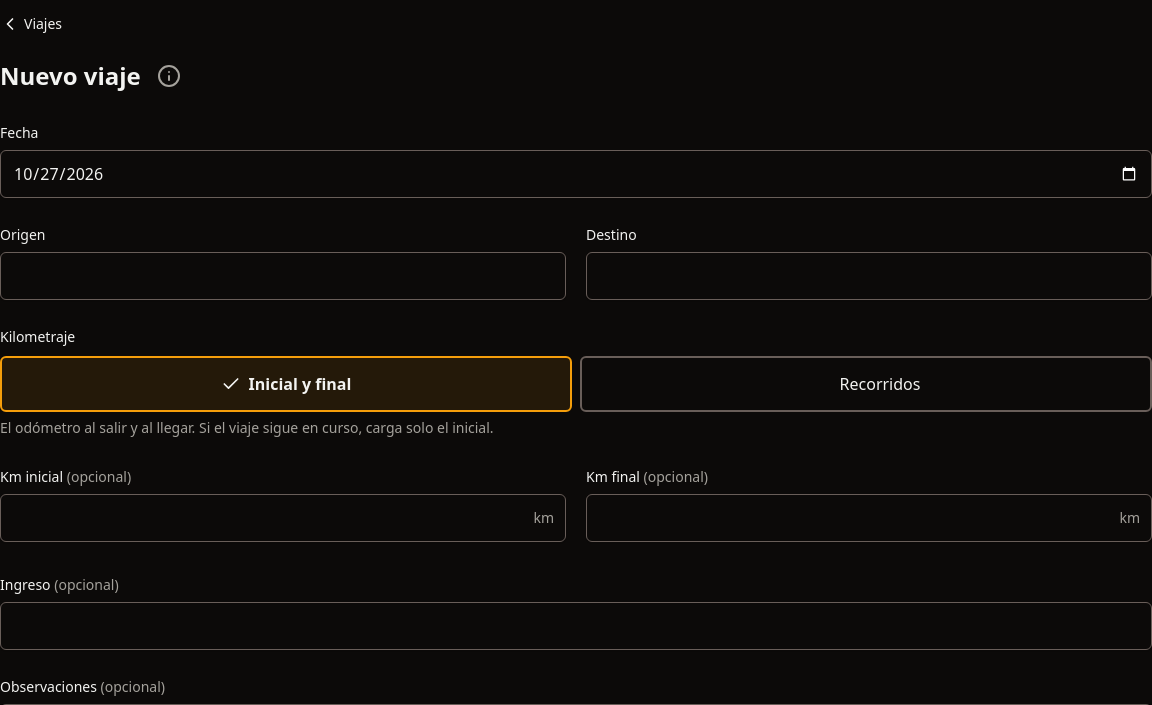
Test: cobertura: toda pantalla de la app (menos Reportar) tiene su "i" › viajes/nuevo: una sola "i", que abre la ayuda de ESA pantalla y devuelve el foco
Click the button named "Ayuda de esta pantalla": x=169, y=76 [145,52,193,100]
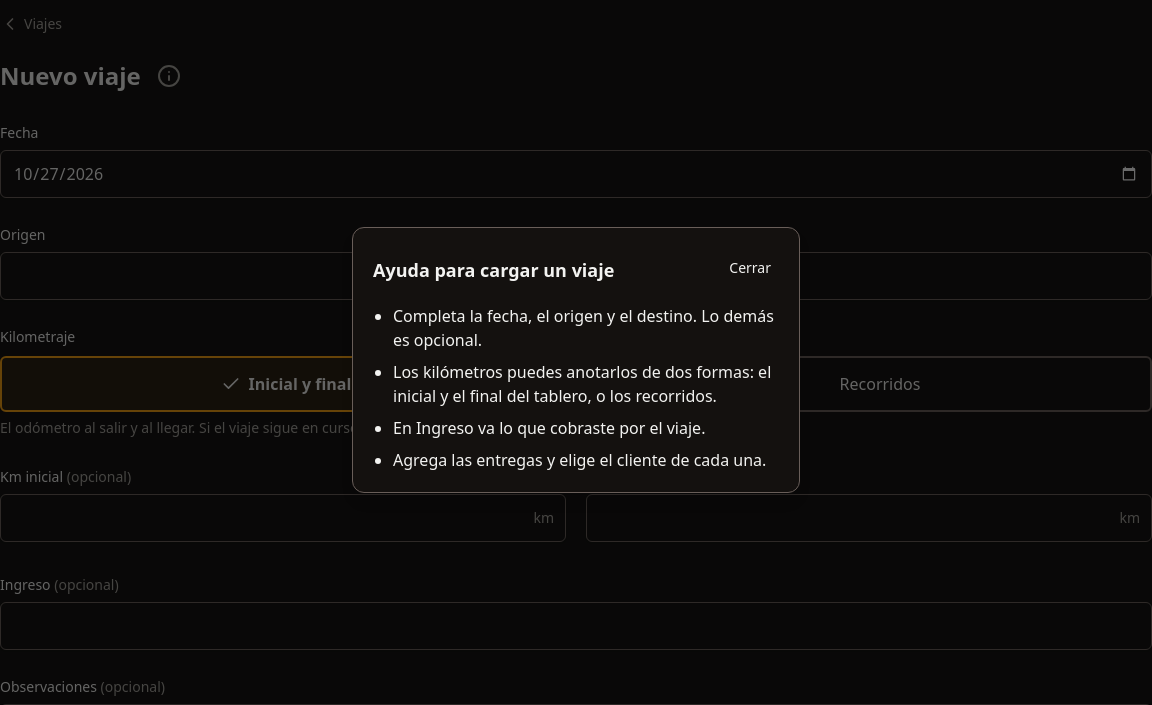
Expected: the heading "Ayuda para cargar un viaje" is shown, [373,256,614,284]
Click the button "Cerrar": x=750, y=268 [713,244,787,292]
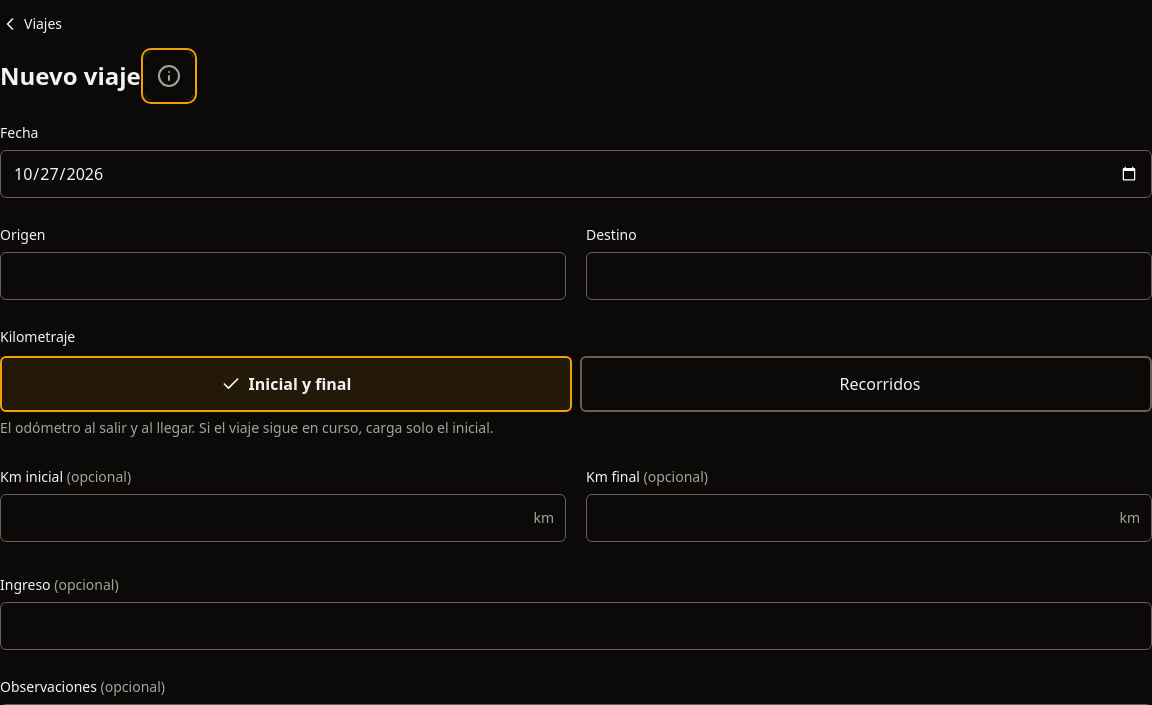
Expected: the dialog is gone
